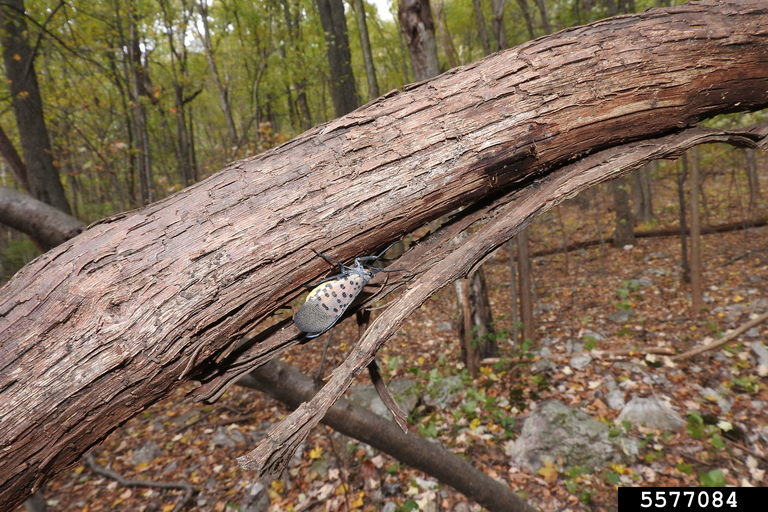adult: (271, 233, 414, 337)
